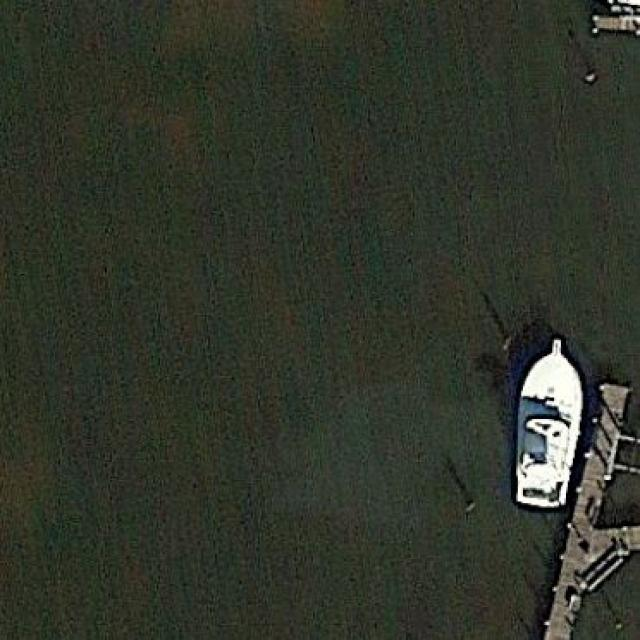ship: (511, 336, 585, 509)
